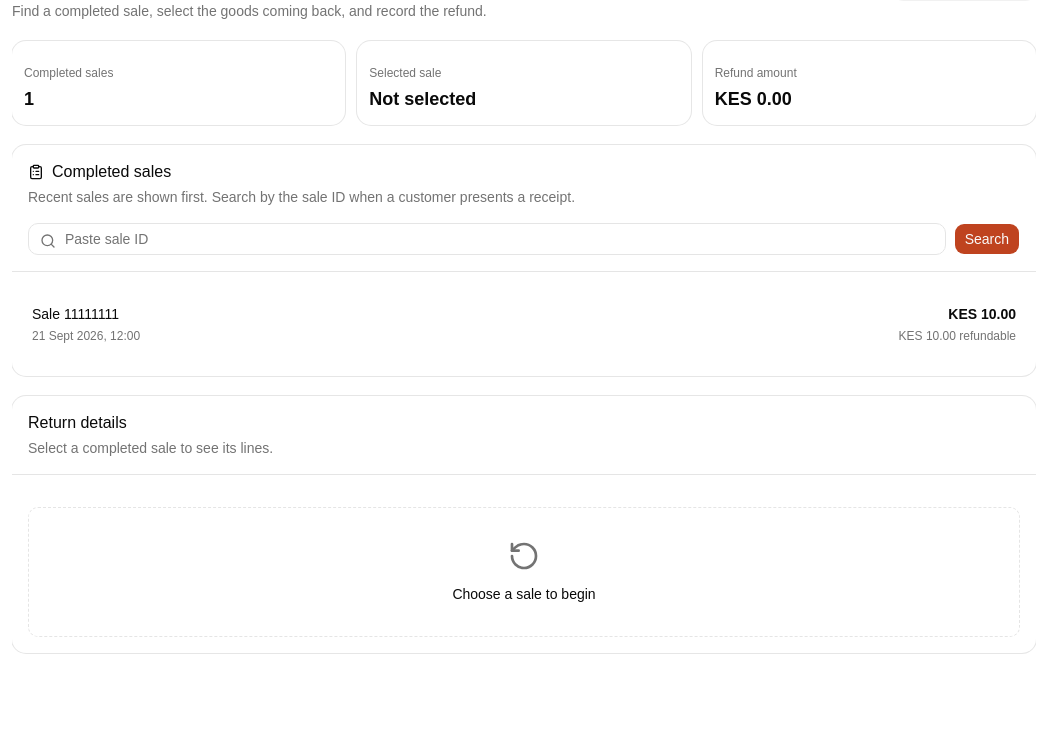
Test case: selects a completed sale and submits an exact return quantity
Click the button "Sale 11111111": (48, 314) x1=12 y1=288 x2=1036 y2=360
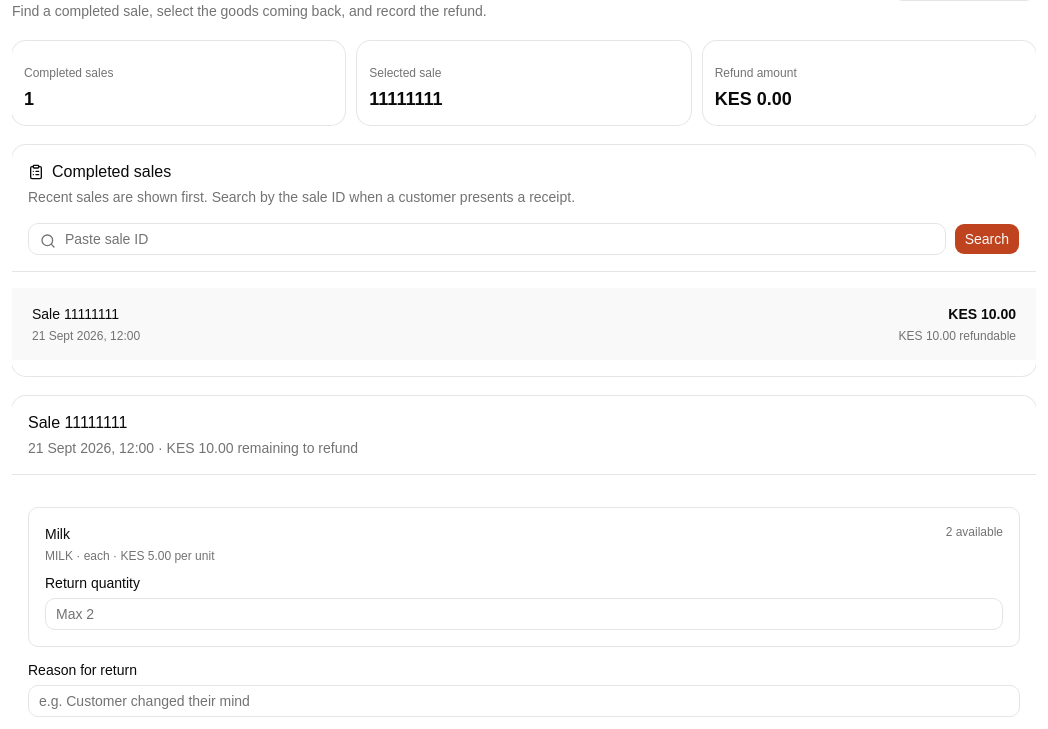
In the field labelled "Return quantity": (524, 614) x1=45 y1=598 x2=1003 y2=630, type "1"
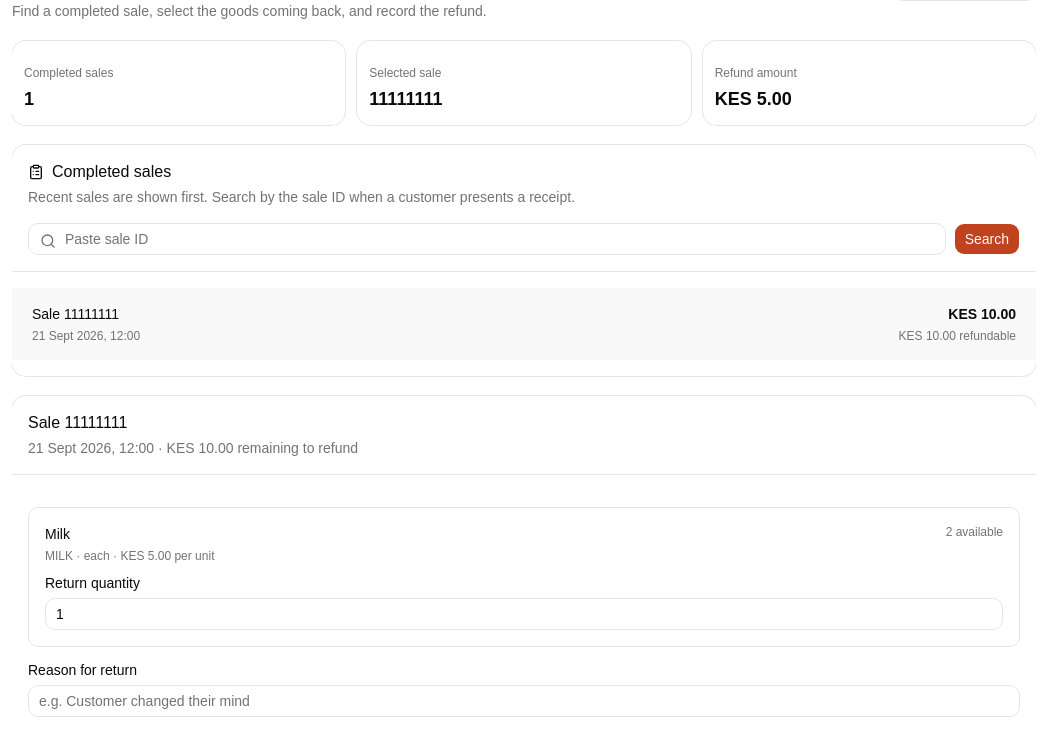
In the field labelled "Reason for return": (524, 701) x1=28 y1=685 x2=1020 y2=717, type "Customer changed mind"
(page scrolled)
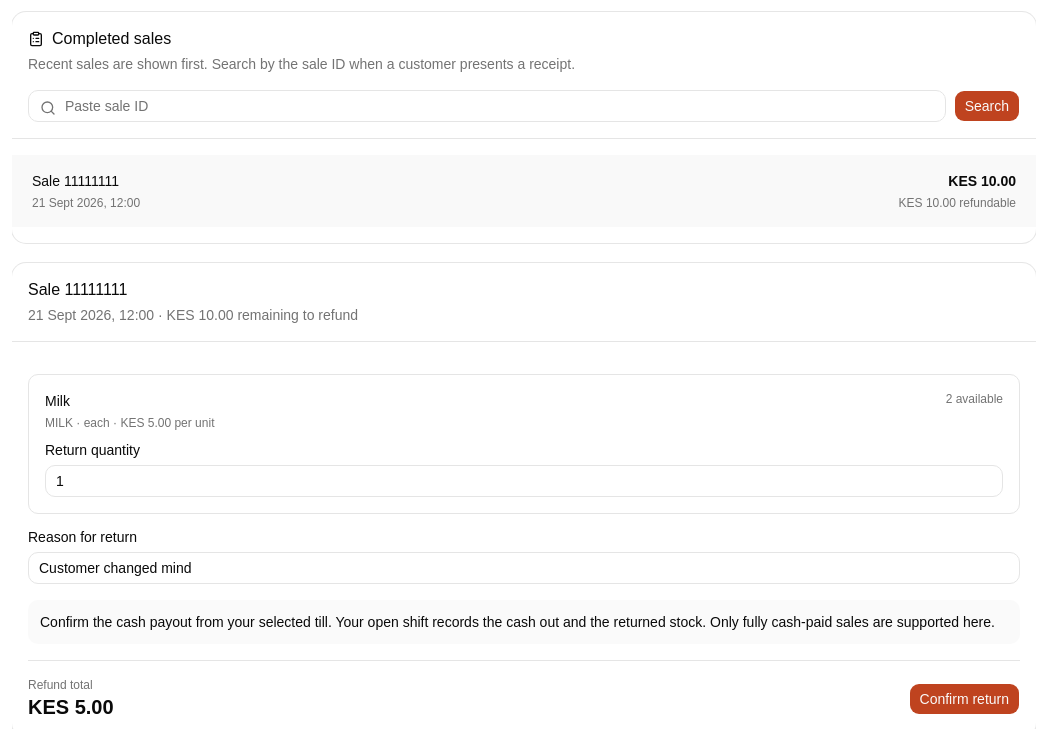
Click the button "Confirm return": (964, 699) x1=908 y1=683 x2=1020 y2=715
(page scrolled)
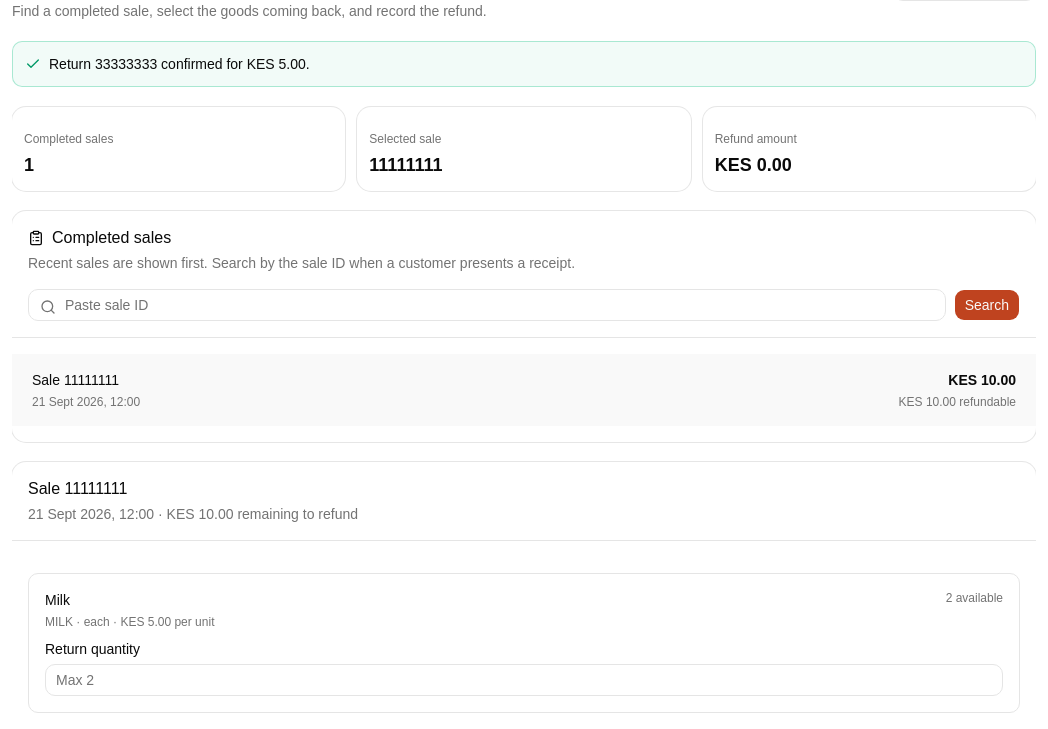
Result: the message shows "confirmed" at x1=49 y1=56 x2=310 y2=72
